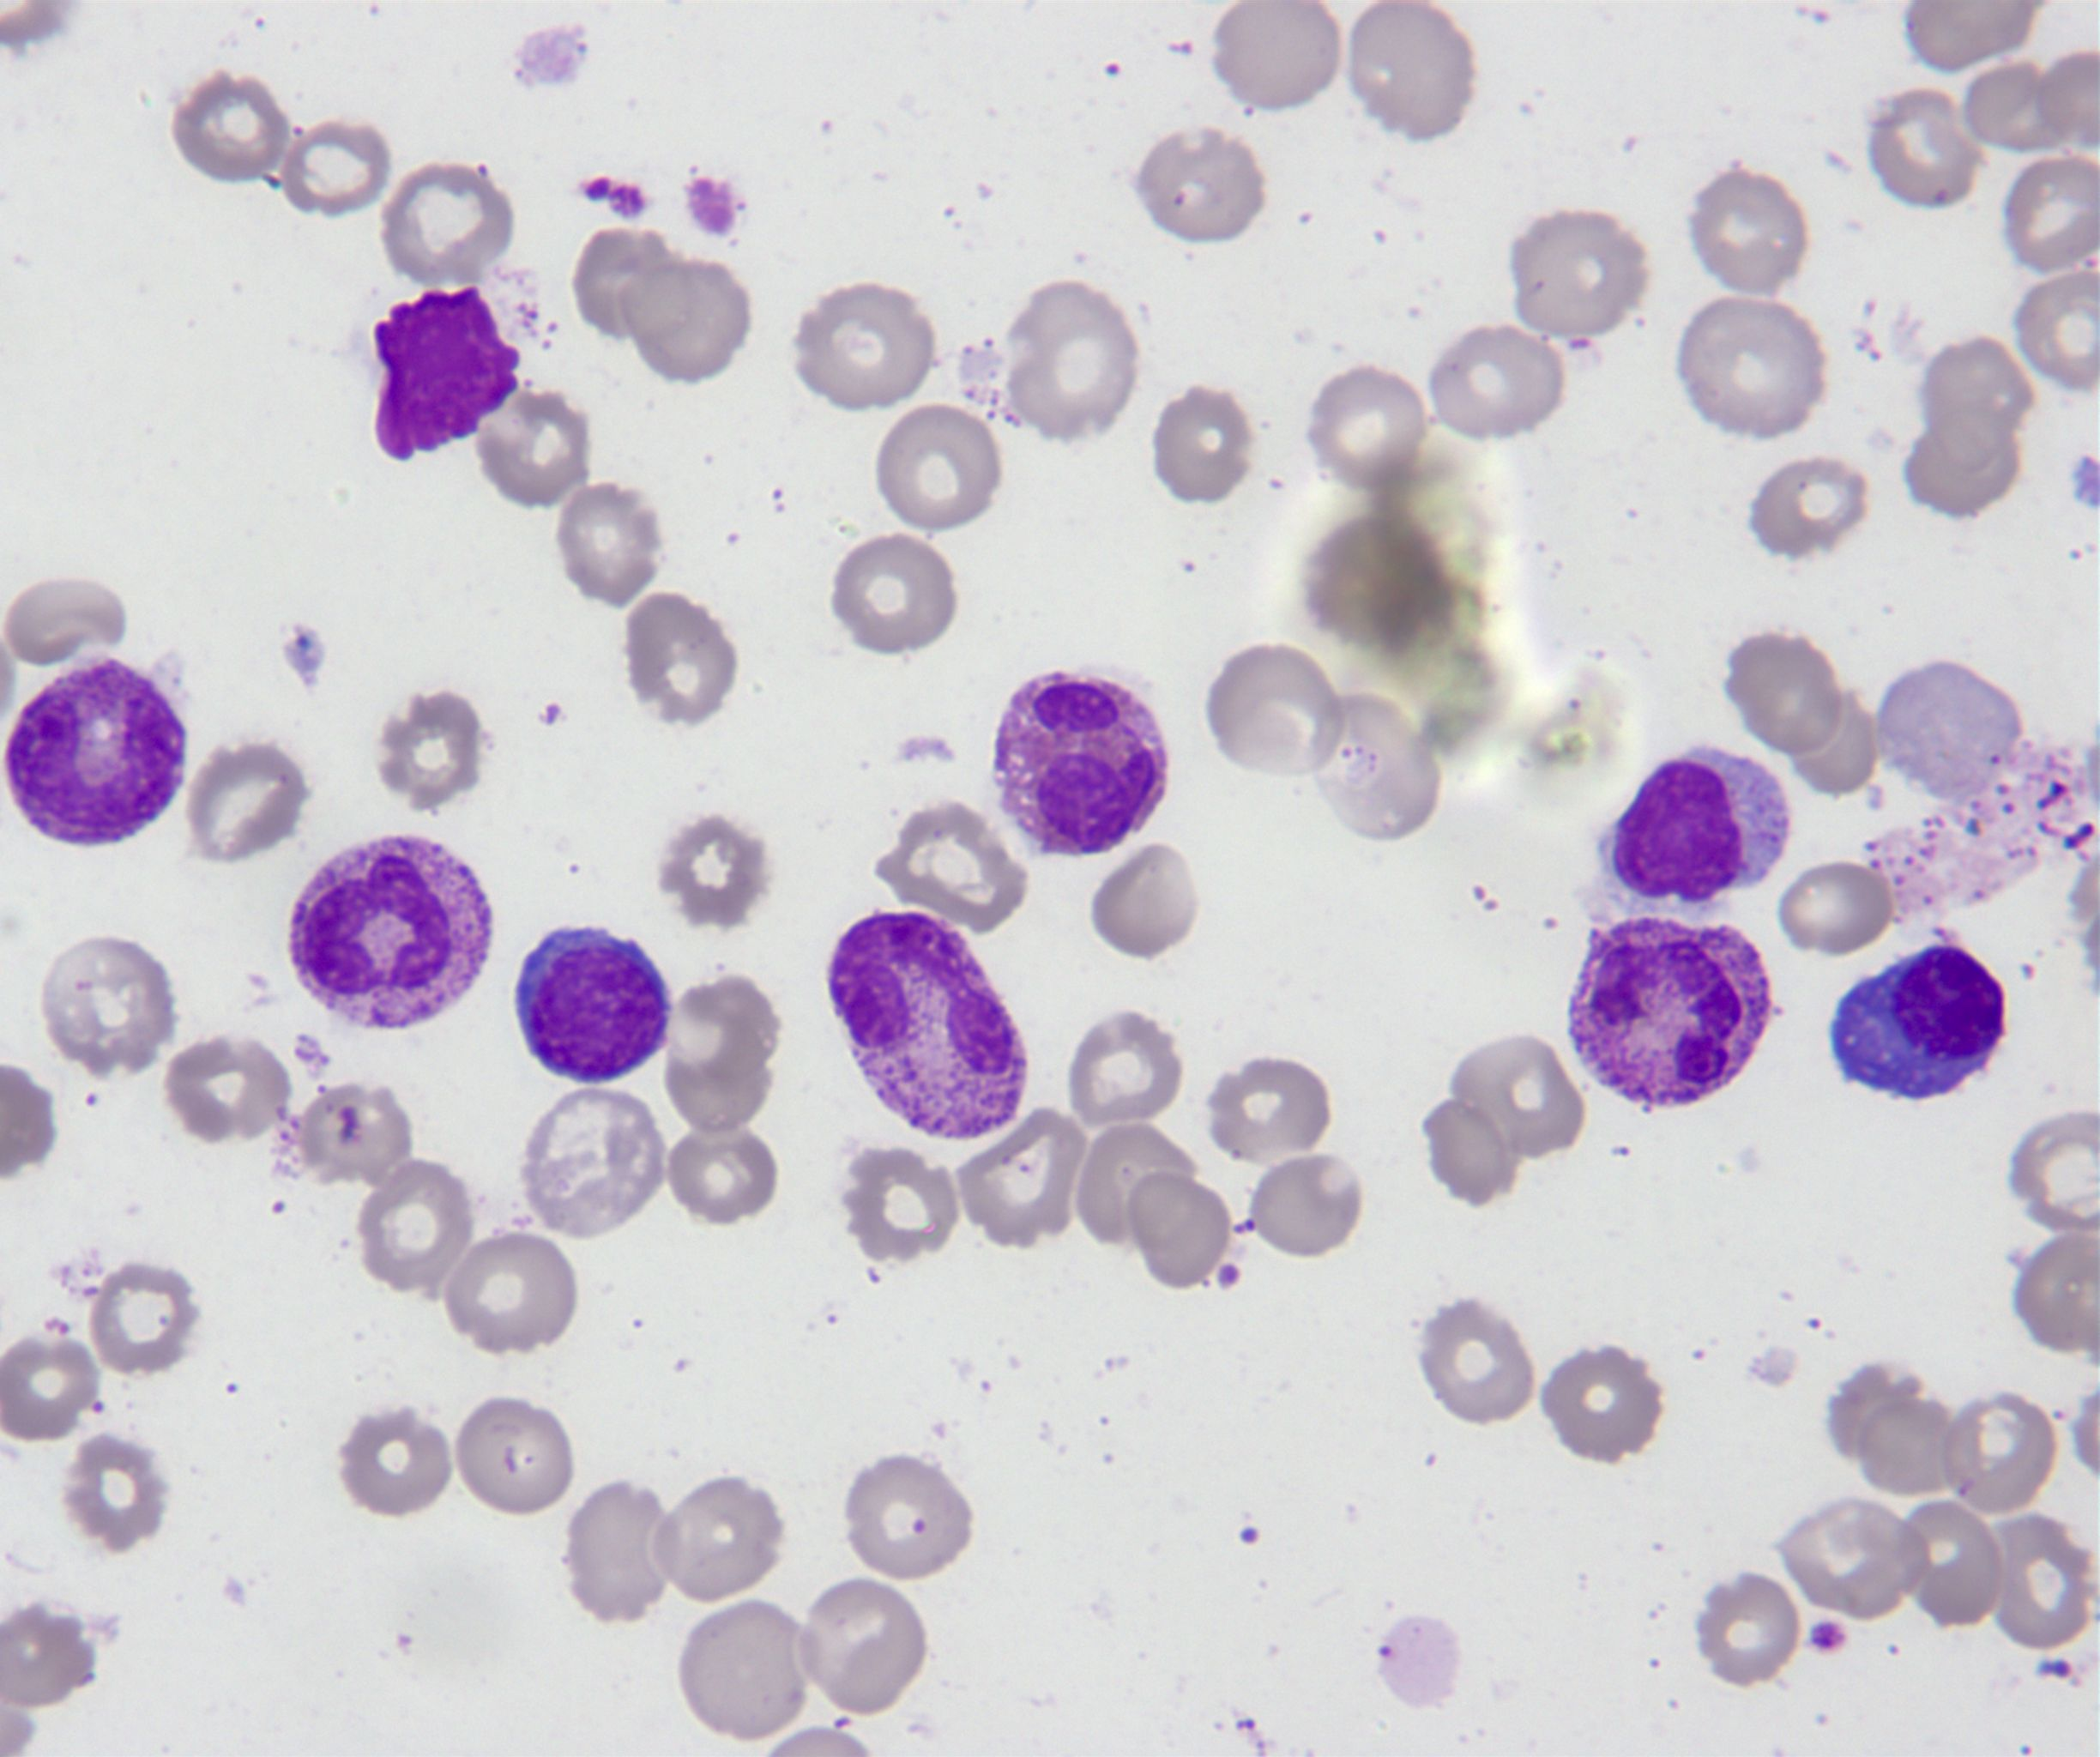23: (509, 923, 673, 1087)
32: (1584, 735, 1798, 909)
5: (818, 906, 1031, 1148), (1561, 911, 1774, 1115), (0, 647, 190, 850)
52: (1817, 940, 2013, 1110)
6: (284, 831, 494, 1031)
E4: (985, 665, 1174, 857)
x: (365, 279, 523, 466)
